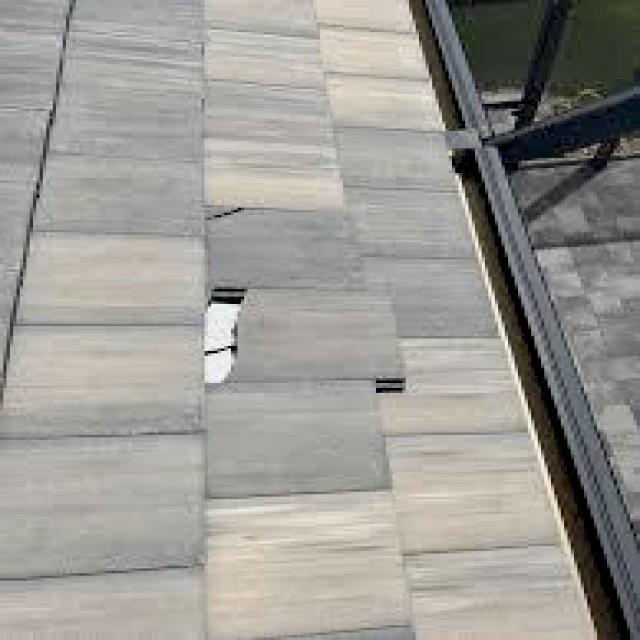trou: (196, 276, 256, 393)
